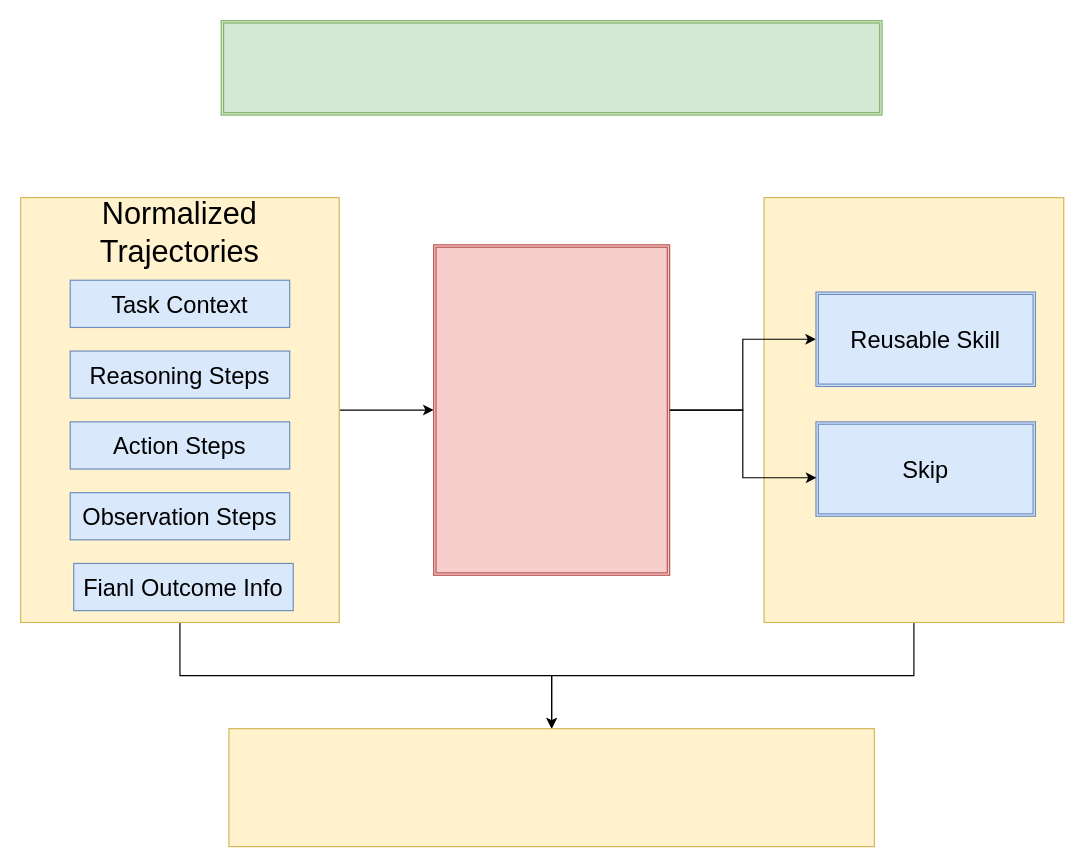
This 1084x867 diagram has some shape labels left out. The shapes that lost their labels are listed below. From the top down, each one's centre as x and y in pixels, then its label:
At point (551, 67): "Skill Extraction".
At point (551, 409): "Teacher Model".
At point (551, 787): "SFT Data for Skill Extraction".
